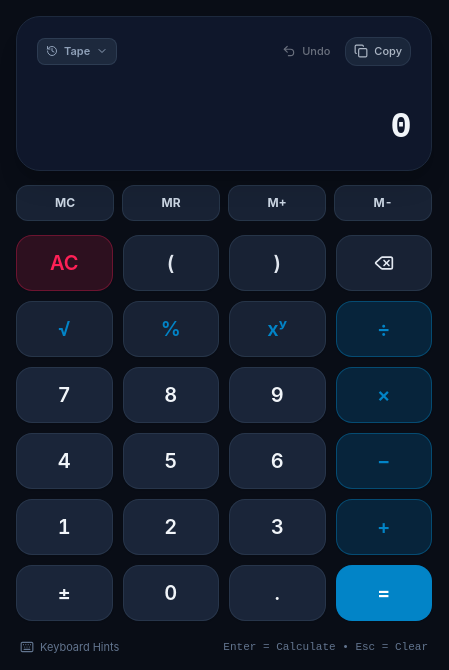
BasicCalculator Component › handles memory add and recall operations
What coordinates should you click on to do the following:
click the button "5"
I would click on:
 (171, 461)
Its box is [122, 433, 219, 489].
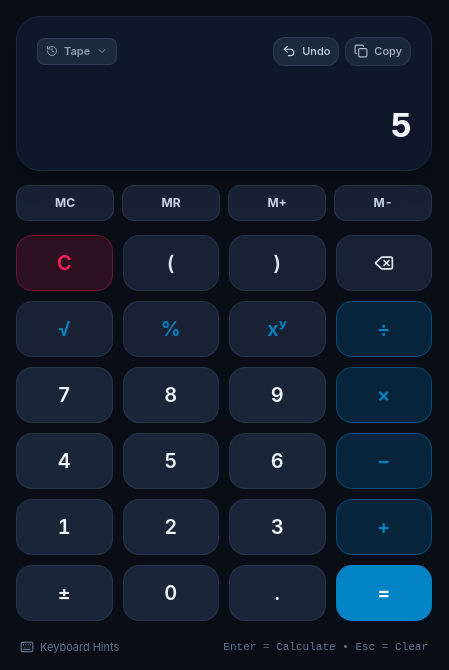
What coordinates should you click on to do the following:
click the button named "memory add"
I would click on:
 (277, 203)
Its box is [228, 185, 326, 221].
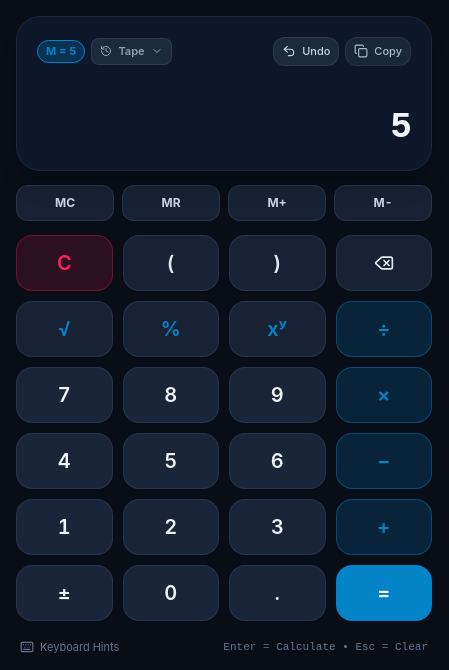
What coordinates should you click on to do the following:
click the button "C"
I would click on:
 (64, 263)
Its box is [16, 235, 112, 291].
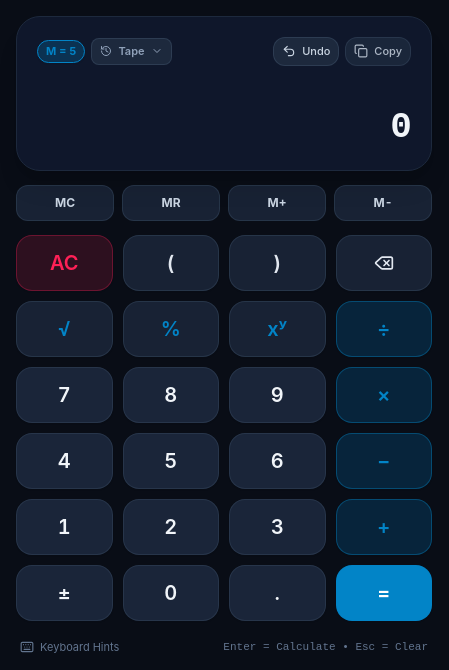
What coordinates should you click on to do the following:
click the button with aria-label "memory recall"
I would click on:
 (171, 203)
Its box is [122, 185, 220, 221].
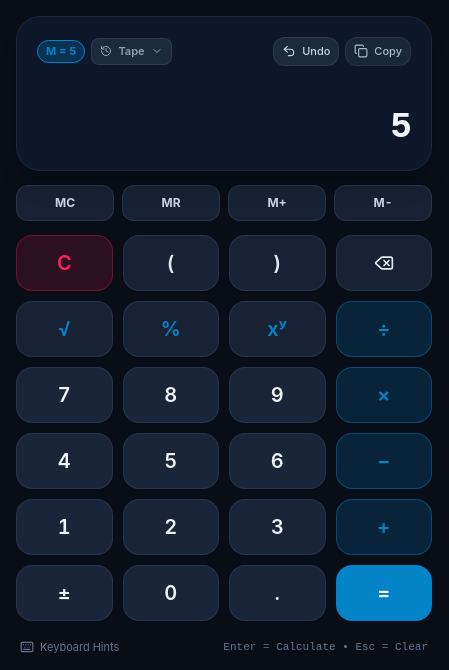
Check: the text with id "basic-calc-output" reads "5", box [390, 107, 411, 148]
